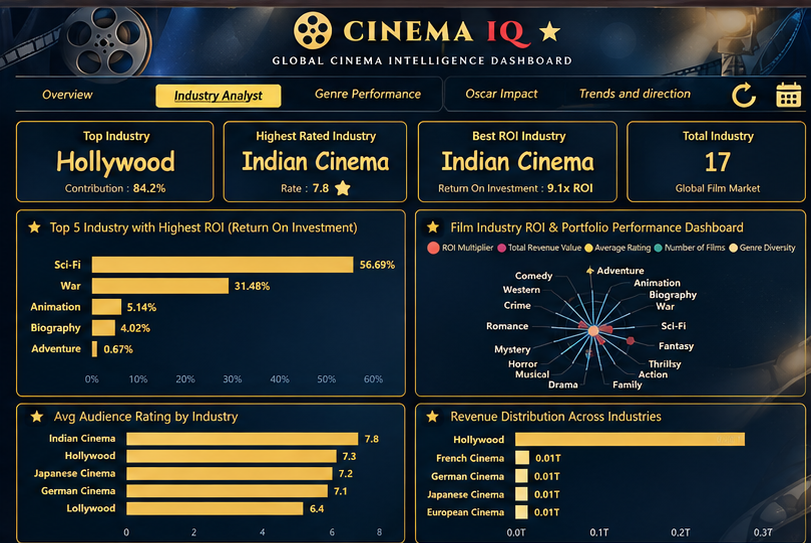

What the dashboard file says about the page in this screenshot:
{"tool":"powerbi","page":{"name":"Industry Analyst","canvas":[1280,720],"ordinal":1},"visuals":[{"type":"cardVisual","fields":{"Data":["measures (3).Top Industry Contribution %"]},"box":[0,175,312.5,90],"z":0},{"type":"cardVisual","fields":{"Data":["measures (3).Highest Rated Industry"]},"box":[312.5,160,327.5,120],"z":1000},{"type":"cardVisual","fields":{"Data":["measures (3).Best ROI Industry"]},"box":[640,145.7,320,150],"z":2000},{"type":"cardVisual","fields":{"Data":["Count(Movies.Category)"]},"box":[915,145,365,161.7],"z":3000},{"type":"RadarChart1446119667547","fields":{"Y":["measures (3).ROI Multiplier","measures (3).Total Revenue","measures (3).Average Rating","measures (3).Number of Films","measures (3).Genre Diversity"],"Category":["Movies.Category"]},"box":[734,306,504,182],"z":4000},{"type":"barChart","fields":{"Category":["Movies.Category"],"Y":["Divide(measures (3).Total Revenue Value, ScopedEval(measures (3).Total Revenue Value, []))"]},"box":[36,308,652,180],"z":5000},{"type":"cardVisual","fields":{"Data":["measures (3).Top Industry Contribution %"]},"box":[0,208.8,301.2,98.8],"z":6000},{"type":"cardVisual","fields":{"Data":["measures (3).Highest Rated Industry Value"]},"box":[302.5,197.5,315,112.5],"z":7000},{"type":"cardVisual","fields":{"Data":["measures (3).Best ROI Industry Value"]},"box":[706.7,206.7,301.7,100],"z":8000},{"type":"barChart","fields":{"Category":["Movies.Film Industry"],"Y":["measures (3).Average Rating"]},"box":[35.7,521.4,652.9,160],"z":9000},{"type":"barChart","fields":{"Category":["Movies.Film Industry"],"Y":["measures (3).Total Revenue Value"]},"box":[688.3,521.7,550,160],"z":10000},{"type":"pageNavigator","box":[11.7,120,1143.3,40],"z":11000},{"type":"actionButton","box":[1153.3,103.3,83.3,70],"z":12000},{"type":"image","box":[1202.5,112.5,65,45],"z":13000}]}

Visuals, with their boxes on the page's 1280x720 design canvas (x1, y1, x2, y2). These are canvas units, not pixel positions in the 811x543 screenshot, which may show the page scaled, cropped or inside an application window:
cardVisual - measures (3).Top Industry Contribution %: Rect(0, 175, 312, 265)
cardVisual - measures (3).Highest Rated Industry: Rect(312, 160, 640, 280)
cardVisual - measures (3).Best ROI Industry: Rect(640, 146, 960, 296)
cardVisual - Count(Movies.Category): Rect(915, 145, 1280, 307)
RadarChart1446119667547 - measures (3).ROI Multiplier x measures (3).Total Revenue: Rect(734, 306, 1238, 488)
barChart - Movies.Category x Divide(measures (3).Total Revenue Value, ScopedEval(measures (3).Total Revenue Value, [])): Rect(36, 308, 688, 488)
cardVisual - measures (3).Top Industry Contribution %: Rect(0, 209, 301, 308)
cardVisual - measures (3).Highest Rated Industry Value: Rect(302, 198, 618, 310)
cardVisual - measures (3).Best ROI Industry Value: Rect(707, 207, 1008, 307)
barChart - Movies.Film Industry x measures (3).Average Rating: Rect(36, 521, 689, 681)
barChart - Movies.Film Industry x measures (3).Total Revenue Value: Rect(688, 522, 1238, 682)
pageNavigator: Rect(12, 120, 1155, 160)
actionButton: Rect(1153, 103, 1237, 173)
image: Rect(1202, 112, 1268, 158)
